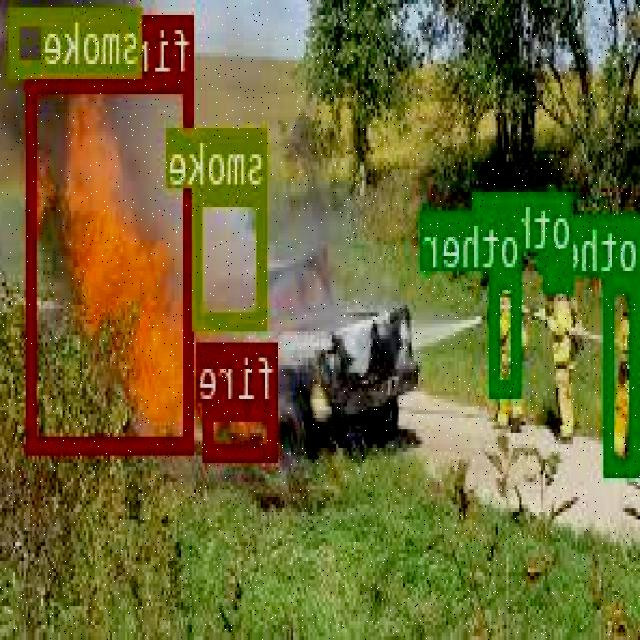fire: (29, 74, 196, 448), (204, 401, 280, 456)
smoke: (195, 186, 268, 325), (12, 5, 143, 74)
